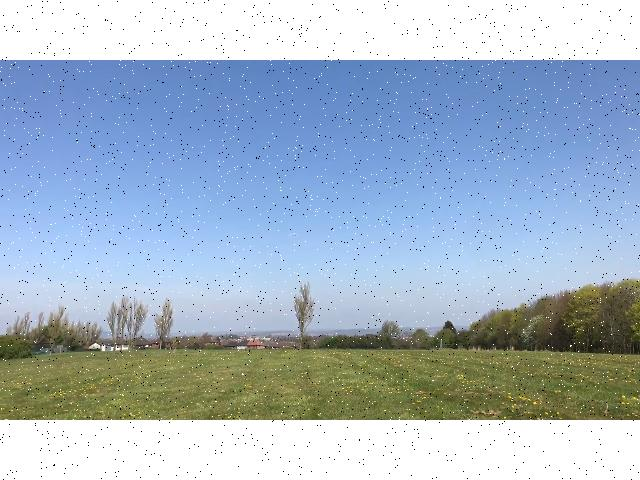Anti-Drone: (287, 225, 303, 241)
